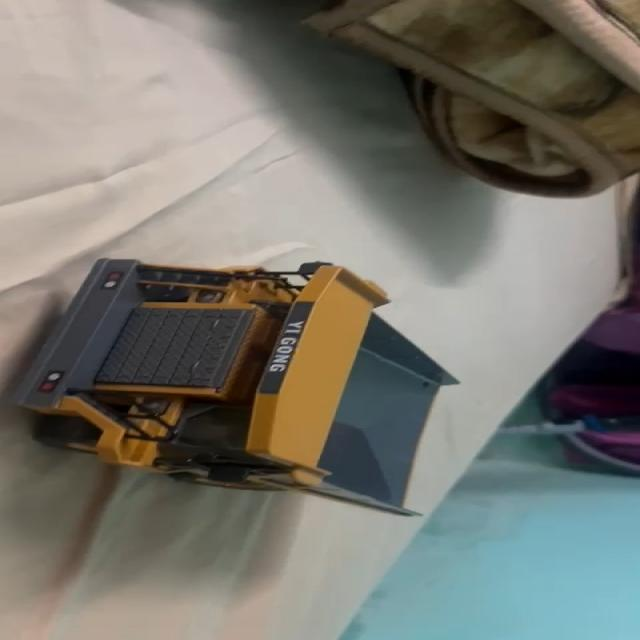dump_truck: (11, 249, 443, 527)
